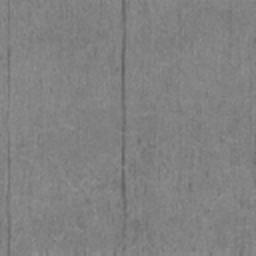Scratches: (121, 32, 127, 132), (121, 170, 127, 211), (121, 0, 127, 25), (121, 135, 126, 165), (6, 211, 11, 239), (7, 47, 11, 70)
